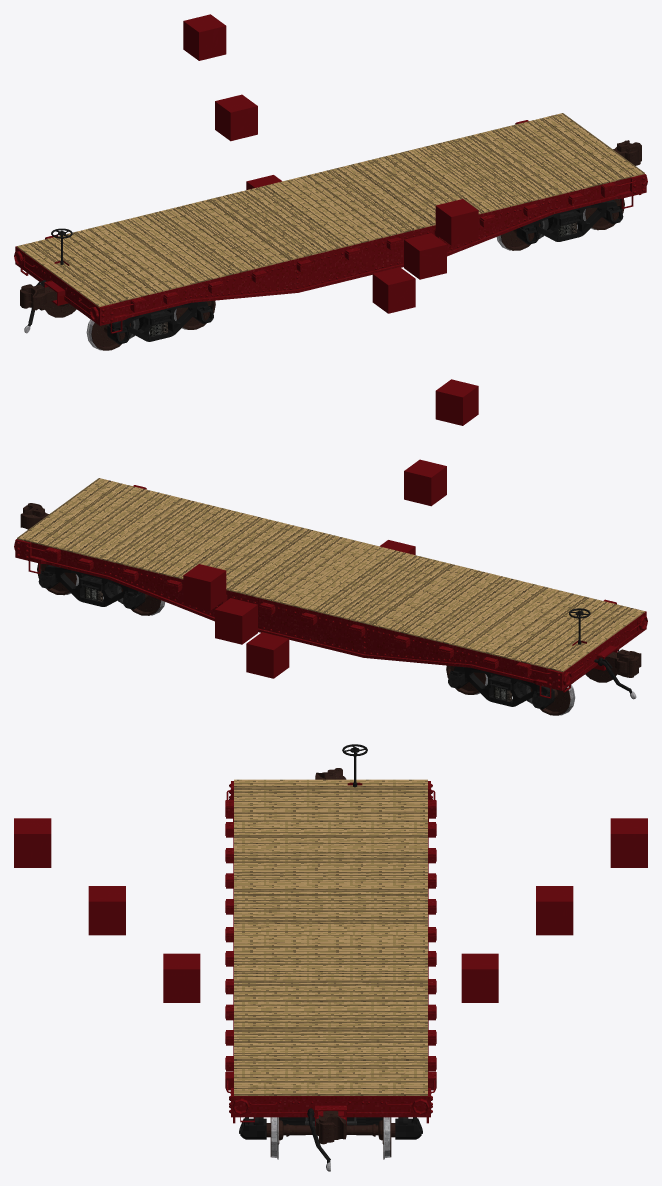
3 views of the same model, one above another, from view 1: azimuth 30°, elevation 25°; view 2: azimuth 150°, elevation 25°; view 3: azimuth 270°, elevation 25° (orthographic). The views are drawn at different scales.
Visible parts, largest first — view 1: FRAME_Cube.011, BOGEY_FRONT_Cube.012, BOGEY_REAR_Cube.002, BOGEY_FRONT_WHEEL_2_Cylinder.008, BACK_COUPLER.002_Cube.015, BOGEY_REAR_BEARINGS_Cube.003, BOGEY_REAR_WHEEL_2_Cylinder.005, BOGEY_FRONT_BEARINGS_Cube.009; view 2: FRAME_Cube.011, BOGEY_FRONT_Cube.012, BOGEY_REAR_Cube.002, BACK_COUPLER.002_Cube.015, BOGEY_FRONT_WHEEL_2_Cylinder.008, BACK_COUPLER.000_Cube.025; view 3: FRAME_Cube.011, BOGEY_REAR_WHEEL_1_Cylinder.003, BACK_COUPLER.000_Cube.025, BOGEY_REAR_BEARINGS_Cube.003.
Boxes of the visible parts, x1=… form: FRAME_Cube.011: x1=14, y1=14, x2=647, y2=333; BOGEY_FRONT_Cube.012: x1=109, y1=301, x2=207, y2=341; BOGEY_REAR_Cube.002: x1=520, y1=200, x2=616, y2=241; BOGEY_FRONT_WHEEL_2_Cylinder.008: x1=45, y1=301, x2=130, y2=350; BACK_COUPLER.002_Cube.015: x1=20, y1=280, x2=56, y2=333; BOGEY_REAR_BEARINGS_Cube.003: x1=516, y1=206, x2=623, y2=244; BOGEY_REAR_WHEEL_2_Cylinder.005: x1=496, y1=223, x2=540, y2=250; BOGEY_FRONT_BEARINGS_Cube.009: x1=107, y1=306, x2=213, y2=344; FRAME_Cube.011: x1=14, y1=379, x2=647, y2=698; BOGEY_FRONT_Cube.012: x1=454, y1=666, x2=552, y2=706; BOGEY_REAR_Cube.002: x1=45, y1=565, x2=141, y2=606; BACK_COUPLER.002_Cube.015: x1=594, y1=649, x2=641, y2=699; BOGEY_FRONT_WHEEL_2_Cylinder.008: x1=531, y1=651, x2=618, y2=715; BACK_COUPLER.000_Cube.025: x1=20, y1=503, x2=48, y2=529; FRAME_Cube.011: x1=14, y1=779, x2=647, y2=1125; BOGEY_REAR_WHEEL_1_Cylinder.003: x1=266, y1=1117, x2=395, y2=1159; BACK_COUPLER.000_Cube.025: x1=307, y1=1108, x2=346, y2=1171; BOGEY_REAR_BEARINGS_Cube.003: x1=240, y1=1117, x2=421, y2=1139.
Bounding box in the file's own units: 11.27 × 2.77 × 8.5.
